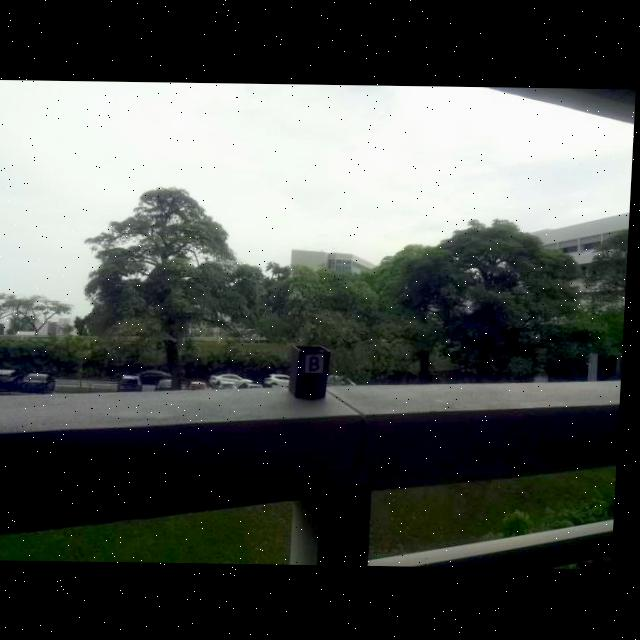B: (311, 356, 324, 372)
